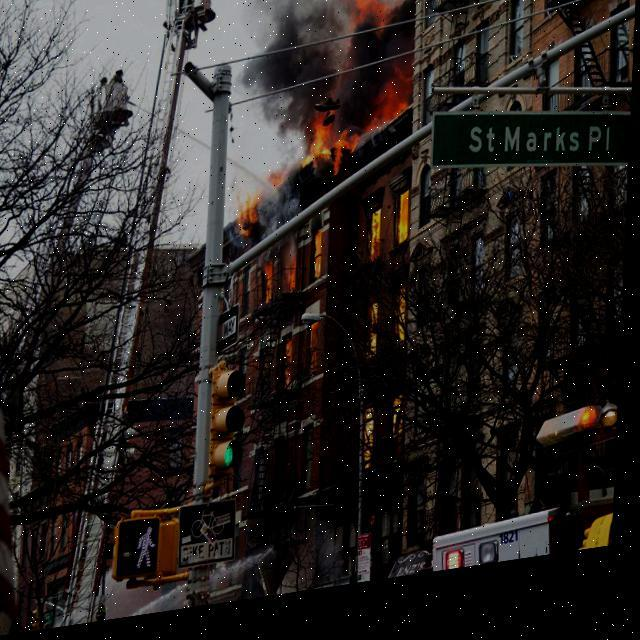Fire: (300, 109, 362, 182), (238, 178, 281, 242), (364, 415, 382, 481), (310, 234, 328, 290), (370, 214, 386, 274), (394, 206, 414, 251), (309, 332, 326, 384), (283, 346, 298, 402), (284, 250, 300, 302), (371, 311, 383, 373), (398, 298, 411, 354), (262, 264, 276, 313)
